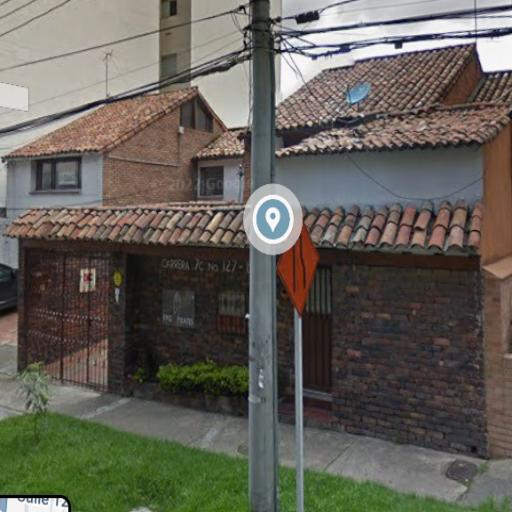Casa: (17, 49, 512, 458), (4, 84, 226, 216)
postes: (242, 0, 320, 512)
